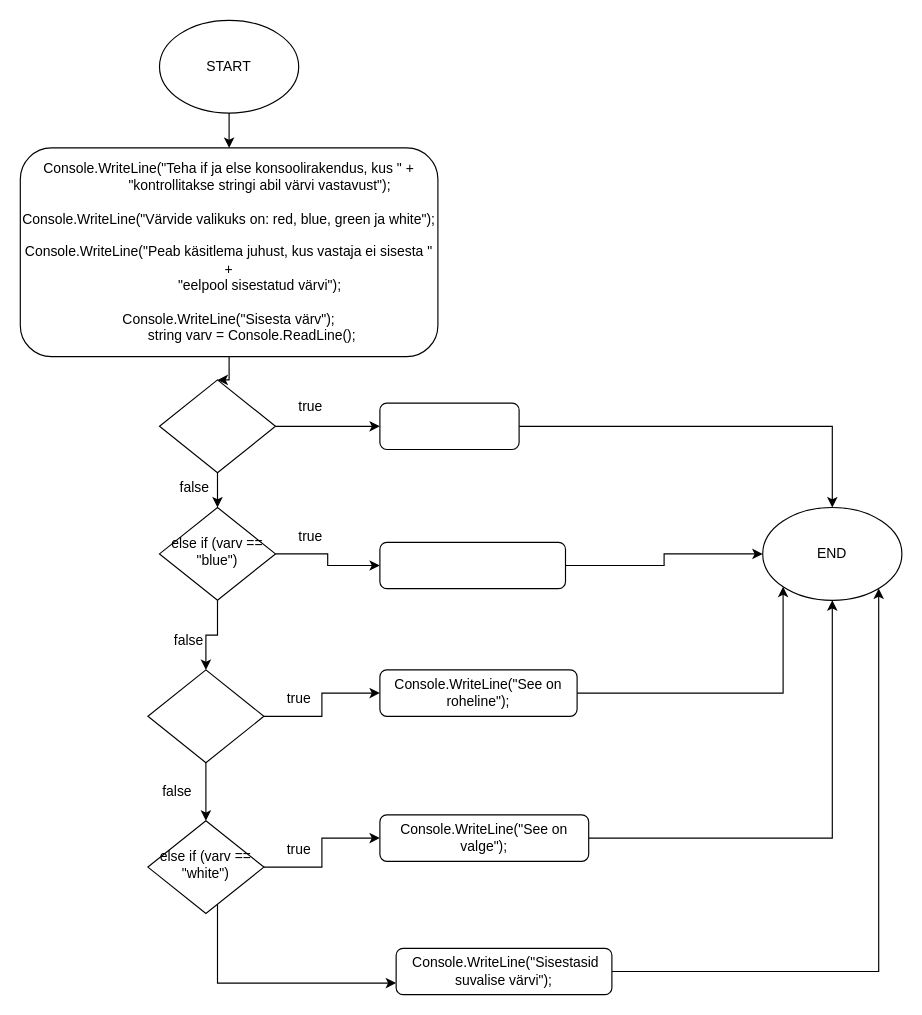
The diagram is 922 pixels wide and 1015 high, and some of its shapes have lost their labels. The centre of each missing label's shape, as x and y in pixels:
Console.WriteLine("See on punane värv");: point 449,425
Console.WriteLine("See on sinine");: point 472,565
else if (varv == "green"): point 205,716
if (varv == "red"): point 217,426
